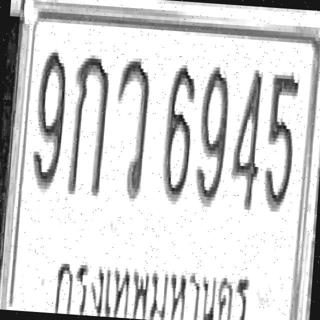A01: (66, 50, 111, 196)
A37: (110, 55, 152, 200)
N04: (228, 65, 265, 210)
N05: (262, 68, 300, 212)
N06: (160, 60, 197, 202)
N09: (193, 63, 230, 208), (31, 48, 68, 190)
P04: (48, 240, 254, 320)
